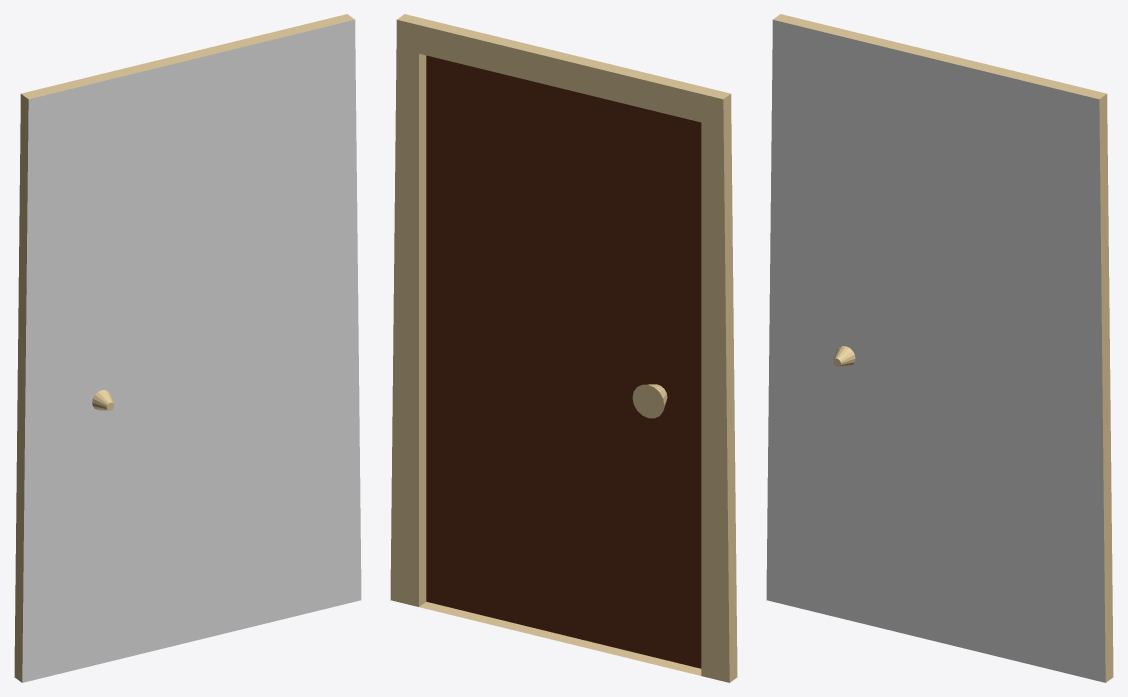
The model's file is Door_000.glb.
The picture shows the model from 3 angles, left to right: view 1: azimuth 30°, elevation 25°; view 2: azimuth 150°, elevation 25°; view 3: azimuth 330°, elevation 25°; orthographic projection.
Parts seen in each view (by area): view 1: Door, DoorFrame; view 2: Door, DoorFrame; view 3: Door, DoorFrame.
Boxes of the visible parts, <box> form: Door: <box>50,53,332,675</box>; DoorFrame: <box>14,14,361,682</box>; Door: <box>426,55,701,668</box>; DoorFrame: <box>390,14,737,682</box>; Door: <box>795,53,1077,675</box>; DoorFrame: <box>766,14,1113,682</box>.
Bounding box in the file's own units: 1.47 × 2.41 × 0.1379.
